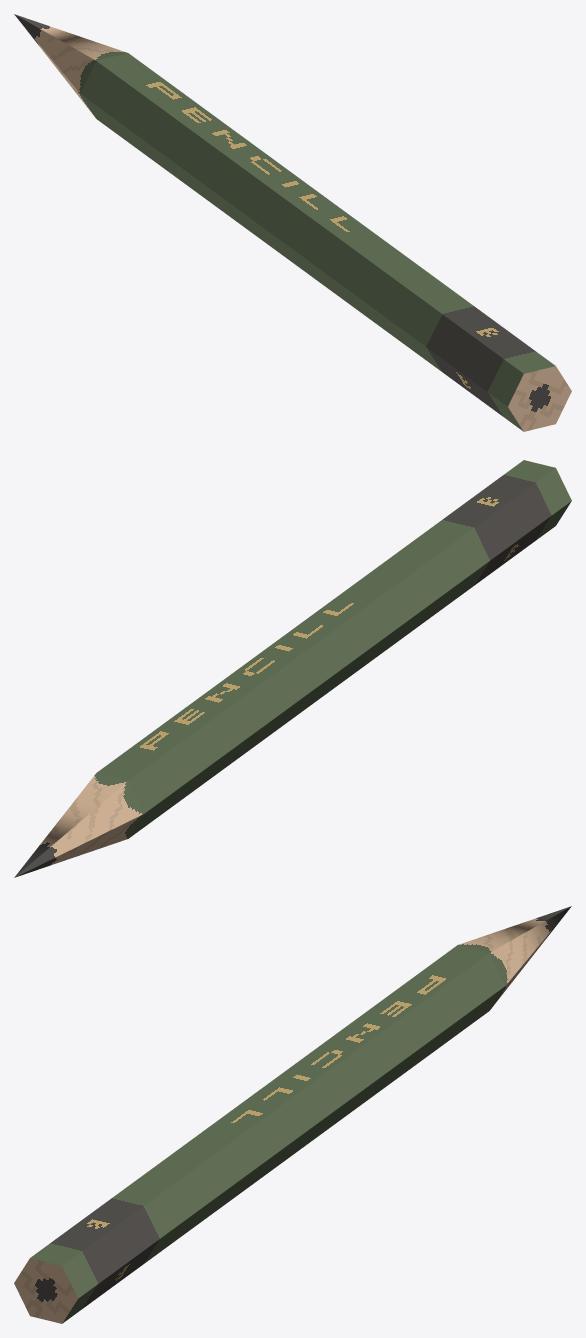
File: 038e_B_Pencil.glb
3 renders of one model, top to bottom at view 1: azimuth 30°, elevation 25°; view 2: azimuth 150°, elevation 25°; view 3: azimuth 330°, elevation 25°, orthographic.
Parts seen in each view (by area): view 1: part_0; view 2: part_0; view 3: part_0.
Part boxes in pixels (left/top/right/bottom): part_0: left=14, top=14, right=571, bottom=431; part_0: left=14, top=460, right=571, bottom=877; part_0: left=14, top=906, right=571, bottom=1323.
Bounding box in the file's own units: 0.008 × 0.00693 × 0.1137.
Materials: 1 (1 with a texture image).
